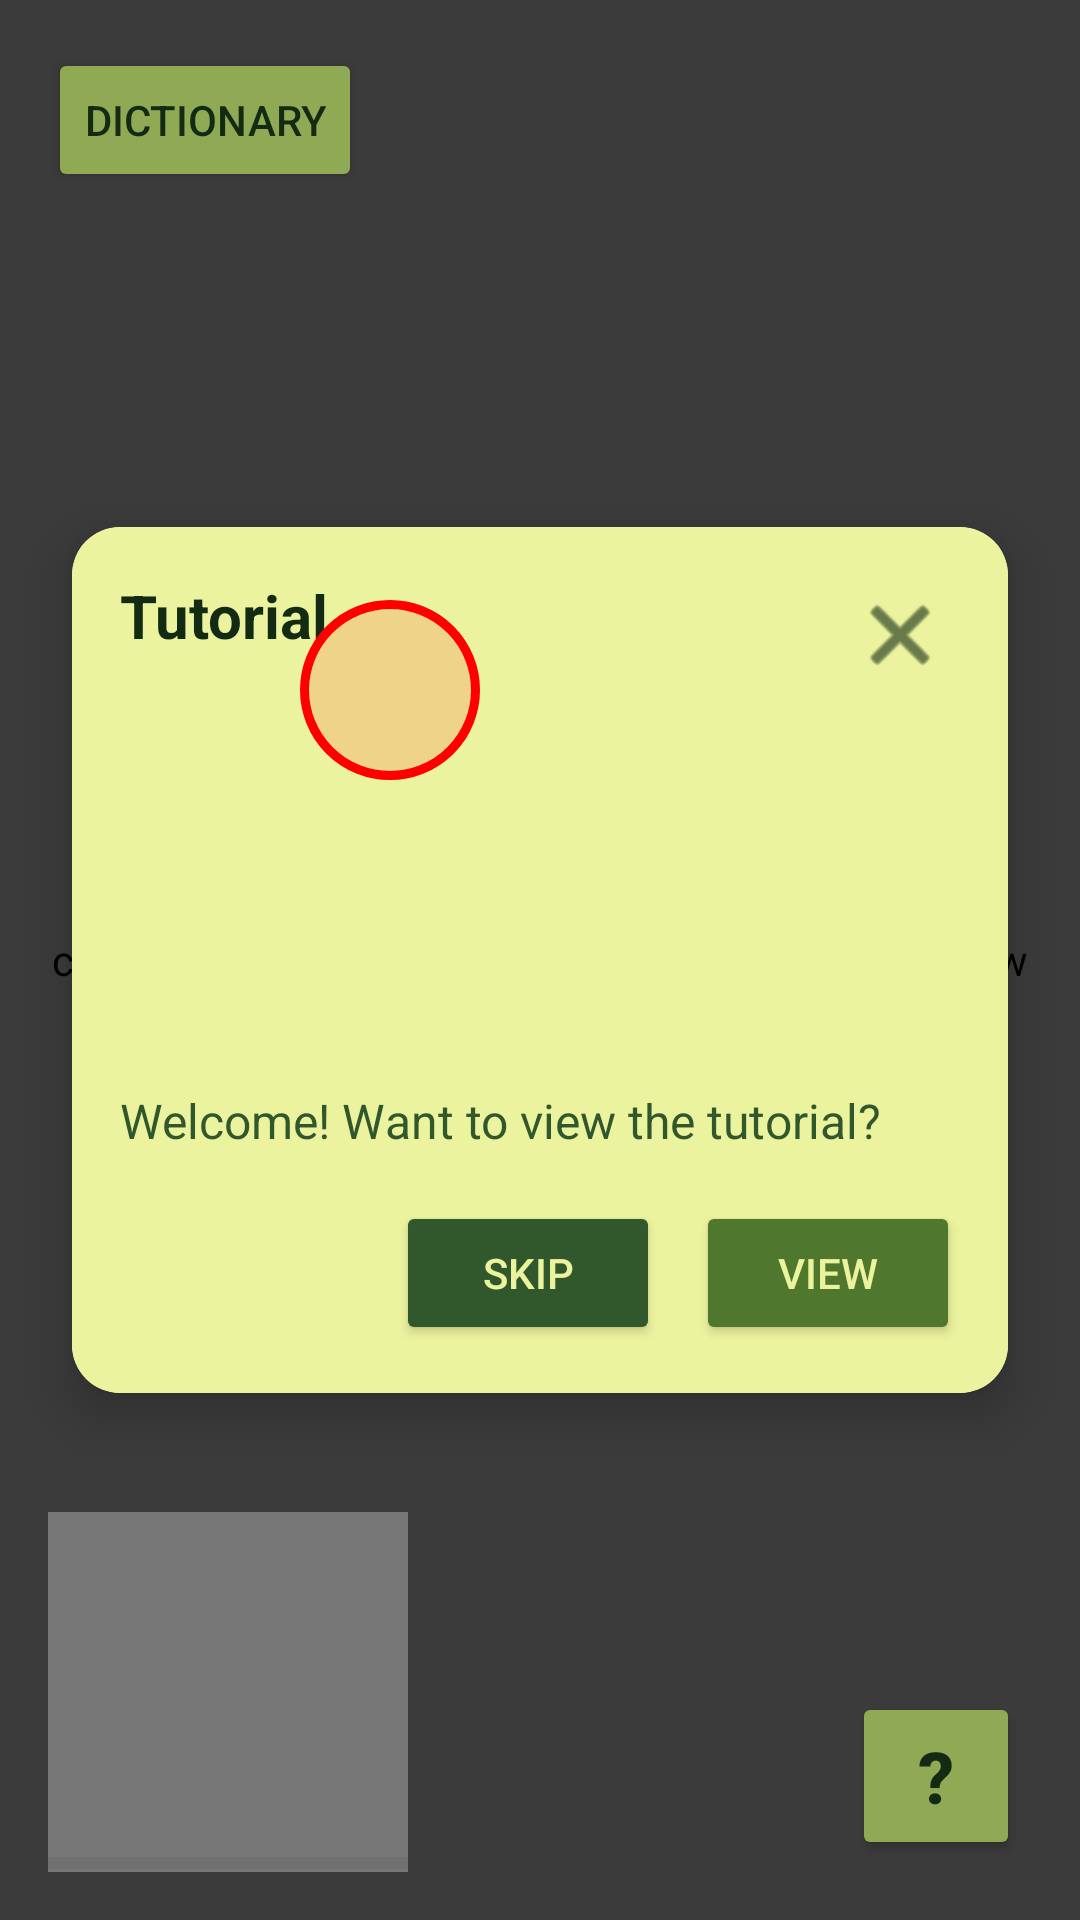

Icons on this 1080w x 1920h Android screen, each with the point to tap as point (x, y):
close clear cancel: point (900, 635)
